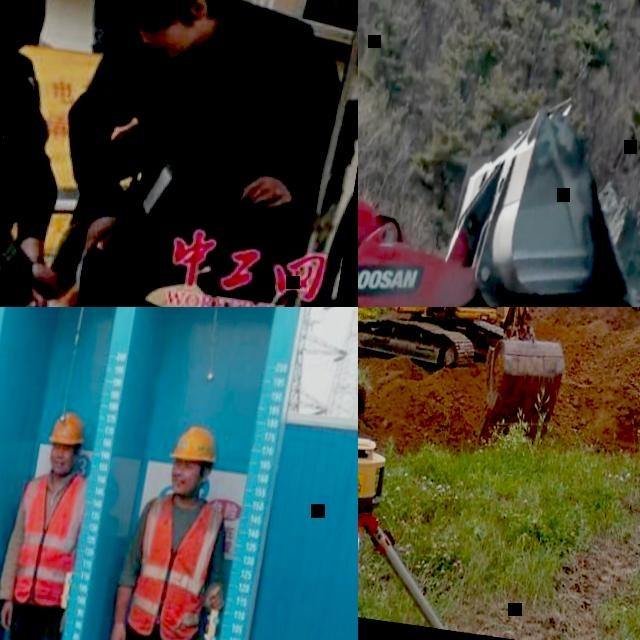Hardhat: (171, 426, 221, 467), (50, 413, 89, 450)
NO-Hardhat: (112, 0, 204, 35), (0, 1, 21, 67)
NO-Mask: (152, 26, 200, 65), (171, 470, 202, 497), (48, 452, 76, 479)
NO-Safety Vest: (115, 0, 327, 206), (0, 68, 31, 212)
Person: (37, 0, 358, 307), (88, 418, 249, 640), (0, 0, 94, 307), (0, 408, 100, 640), (0, 34, 68, 307), (65, 0, 259, 71)
Safety Vest: (126, 492, 226, 640), (8, 470, 91, 611)
machinery: (358, 57, 632, 307), (358, 307, 604, 451)
